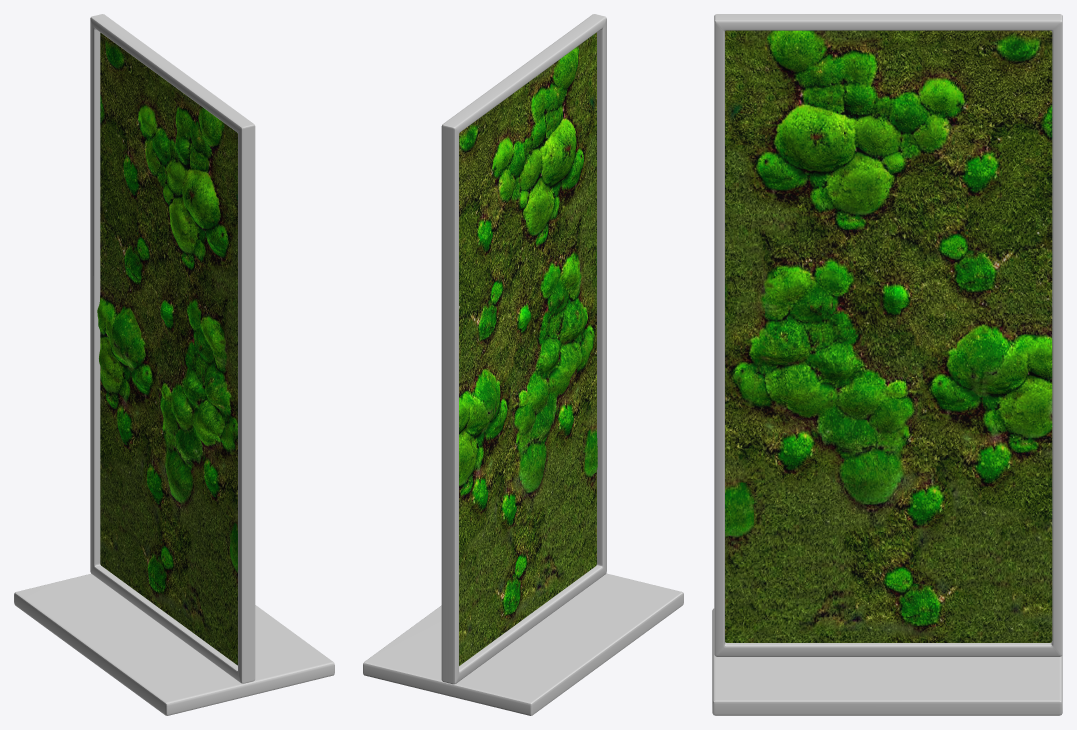
Rendered from tablo.fbx.
The picture shows the model from 3 angles, left to right: view 1: azimuth 30°, elevation 25°; view 2: azimuth 150°, elevation 25°; view 3: azimuth 270°, elevation 25°; orthographic projection. The views are drawn at different scales.
Visible parts, largest first — view 1: moss_, moss_low_, edge7, step_; view 2: moss_, edge7, step_, moss_low_; view 3: moss_, moss_low_, edge7, step_.
Part boxes in pixels (box(x1,y1,x2,y2)): moss_: box(97, 34, 237, 663); moss_low_: box(100, 32, 237, 665); edge7: box(90, 14, 255, 683); step_: box(14, 573, 334, 715); moss_: box(459, 32, 597, 665); edge7: box(441, 14, 606, 684); step_: box(363, 573, 683, 715); moss_low_: box(459, 73, 596, 663); moss_: box(725, 30, 1052, 642); moss_low_: box(725, 30, 1052, 642); edge7: box(714, 14, 1062, 656); step_: box(712, 608, 1062, 715).
Size of the model in its own units: 63.78 by 205 by 100.
